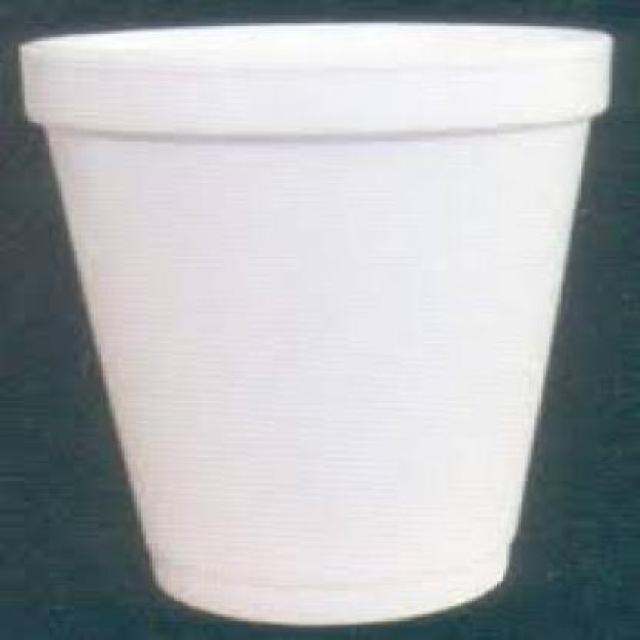PAPER: (16, 15, 606, 628)
